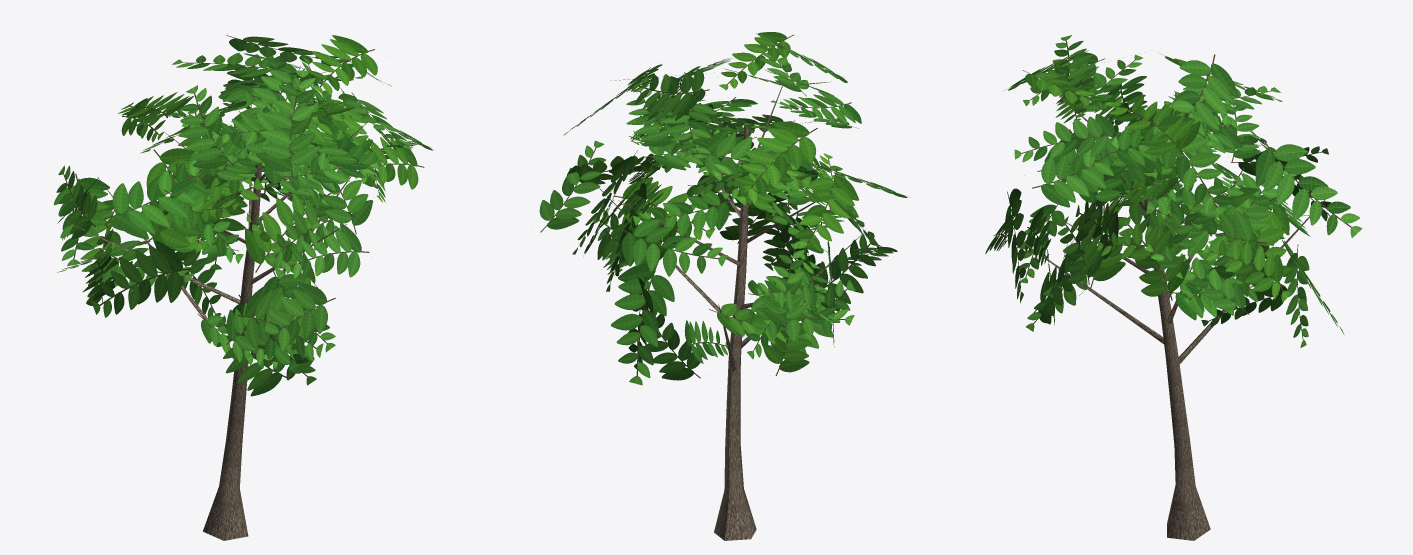
File: copa_a_lo.glb
3 views of the same model, side by side, from view 1: azimuth 30°, elevation 25°; view 2: azimuth 150°, elevation 25°; view 3: azimuth 270°, elevation 25° (orthographic). The views are drawn at different scales.
Visible parts, largest first — view 1: copa_a_lo; view 2: copa_a_lo; view 3: copa_a_lo.
Part boxes in pixels (x1,y1,x2,y2): copa_a_lo: (53, 35, 432, 540); copa_a_lo: (539, 32, 907, 540); copa_a_lo: (985, 35, 1362, 540).
Size of the model in its own units: 8.65 by 10.76 by 8.19.
Materials: 2 (2 with a texture image).
